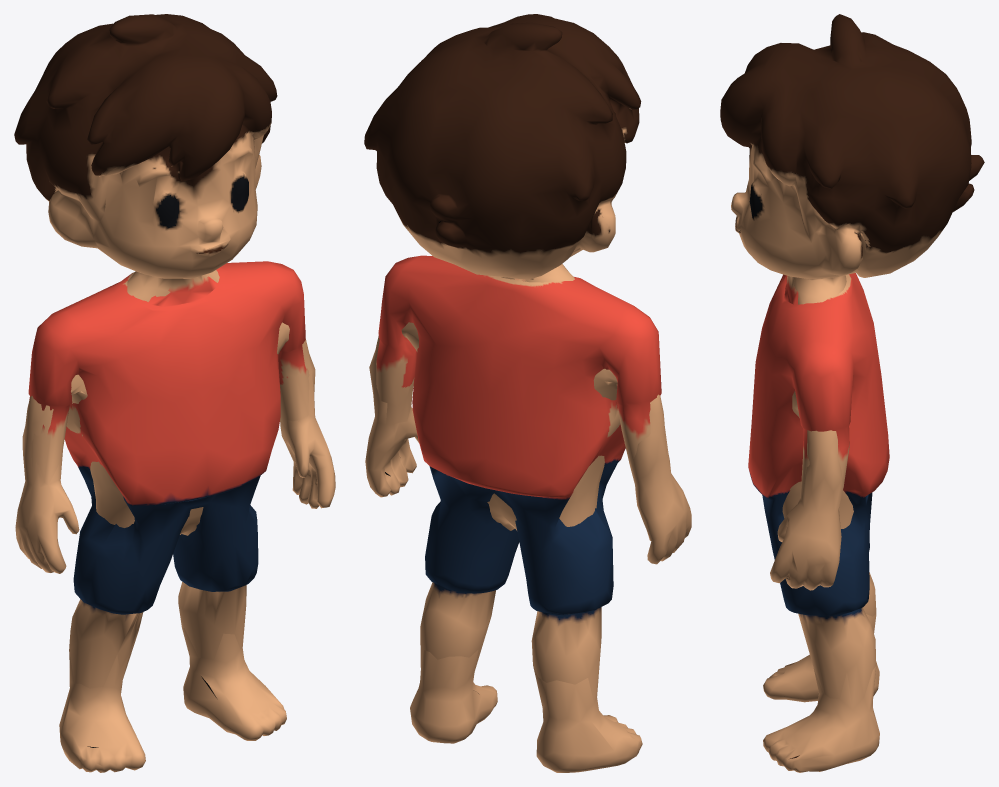
The model's file is child__v01.glb.
3 views of the same model, side by side, from view 1: azimuth 30°, elevation 25°; view 2: azimuth 150°, elevation 25°; view 3: azimuth 270°, elevation 25° (orthographic). The views are drawn at different scales.
Parts seen in each view (by area): view 1: outfit_bath, outfit_clothed; view 2: outfit_bath, outfit_clothed; view 3: outfit_bath, outfit_clothed.
Part boxes in pixels (left/top/right/bottom): outfit_bath: left=14, top=14, right=335, bottom=772; outfit_clothed: left=28, top=261, right=309, bottom=688; outfit_bath: left=364, top=14, right=691, bottom=772; outfit_clothed: left=376, top=255, right=670, bottom=702; outfit_bath: left=720, top=14, right=984, bottom=772; outfit_clothed: left=748, top=273, right=889, bottom=709.
Size of the model in its own units: 0.5284 by 1.2 by 0.4151.
Materials: 2 (2 with a texture image).
